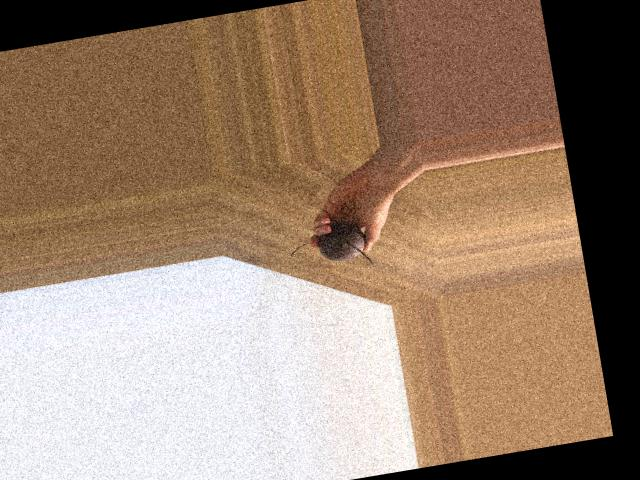beet: (286, 219, 373, 277)
